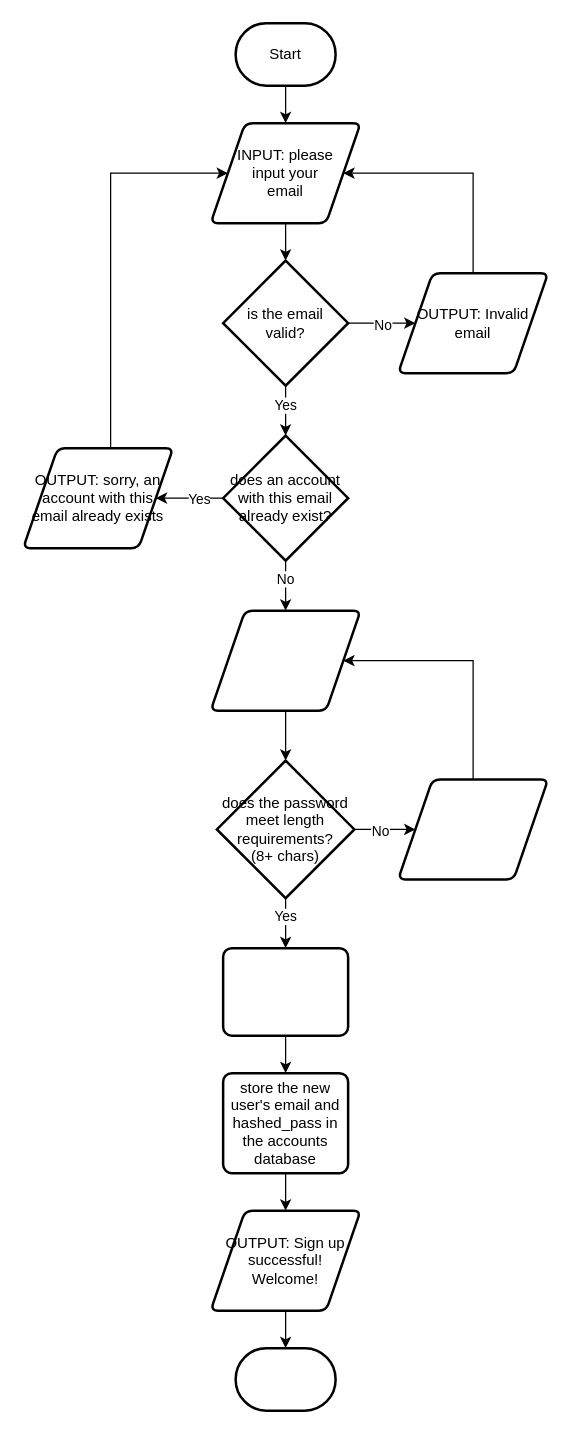
This 570x1433 diagram has some shape labels left out. Each missing label, with the centre of its shape:
End: point 285,1378
hashed_pass = hash the password (Argon2ID): point 285,991
INPUT: please input your password: point 285,660
OUTPUT: Password should be 8+ symbols long: point 472,829
